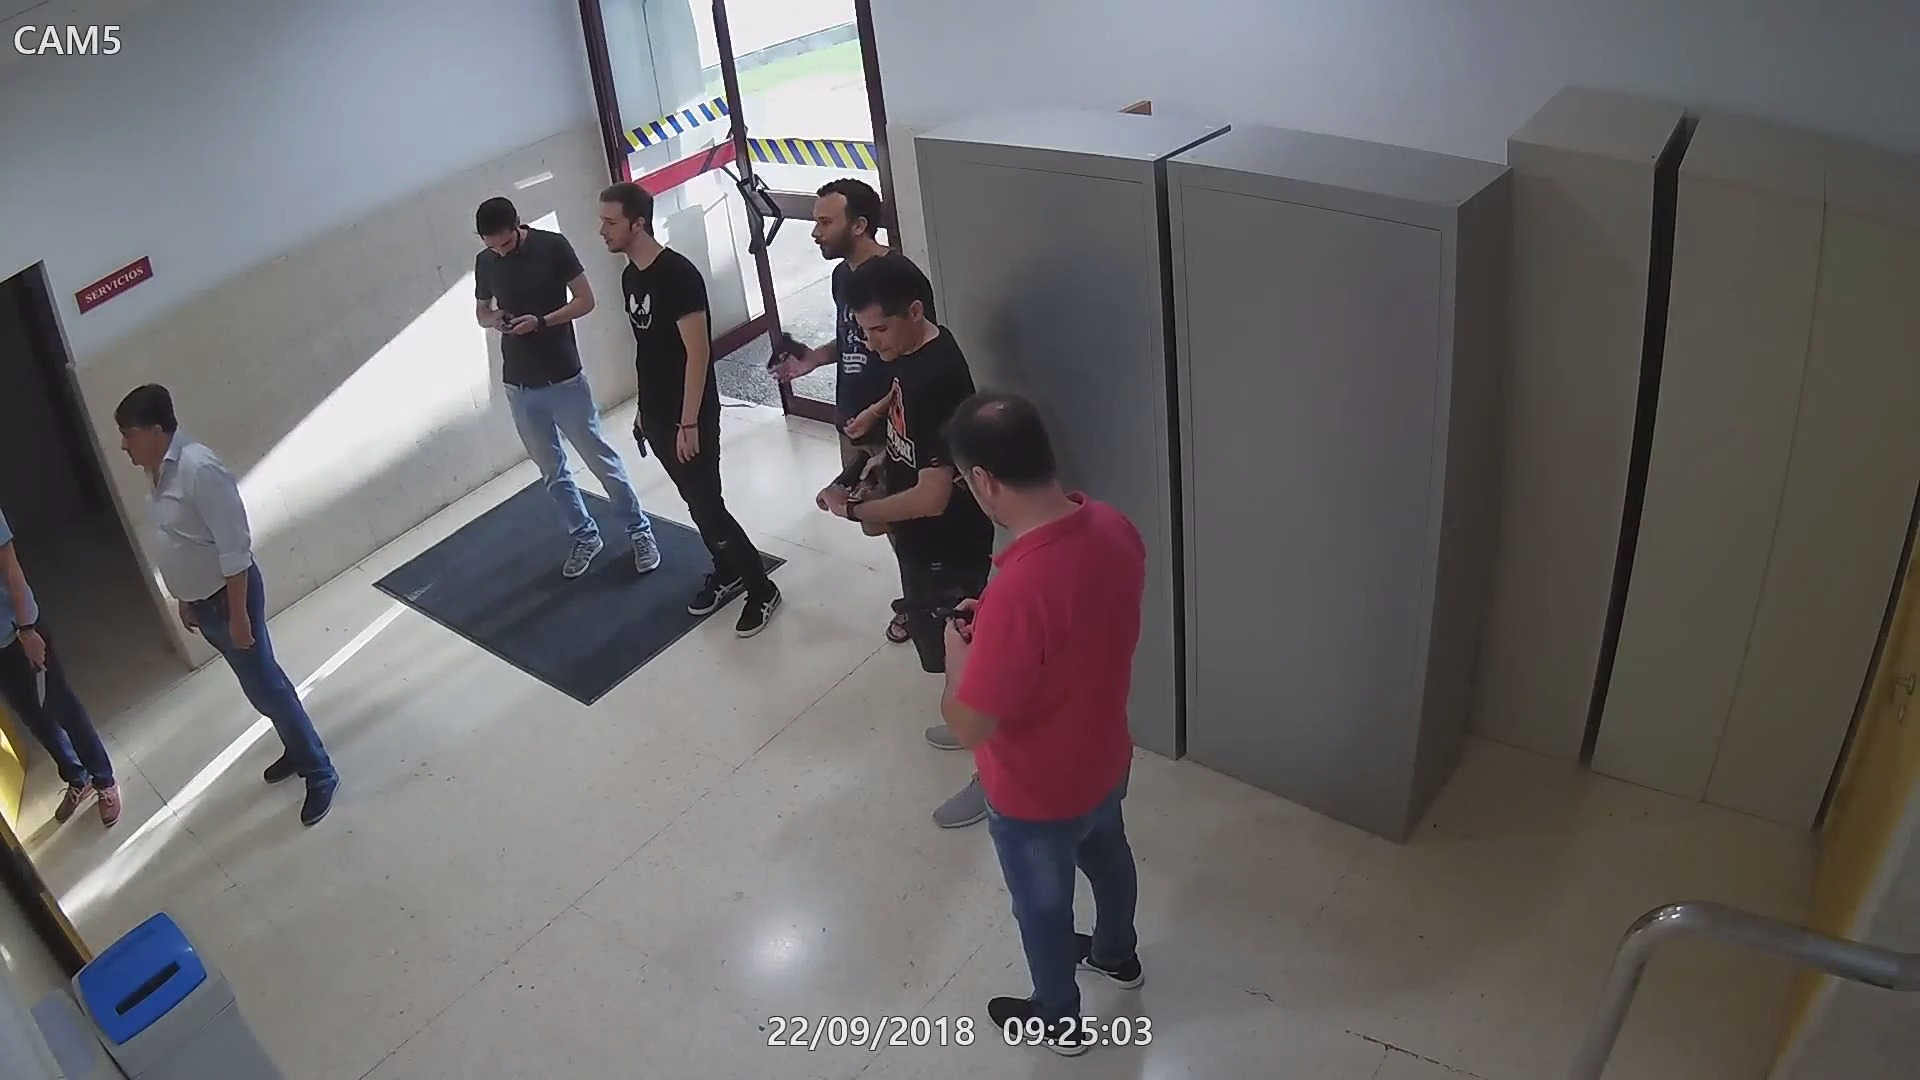Handgun: (887, 578, 986, 650), (814, 440, 885, 520), (762, 330, 815, 376), (628, 411, 655, 465), (487, 306, 527, 338)
Knife: (18, 622, 51, 709)
